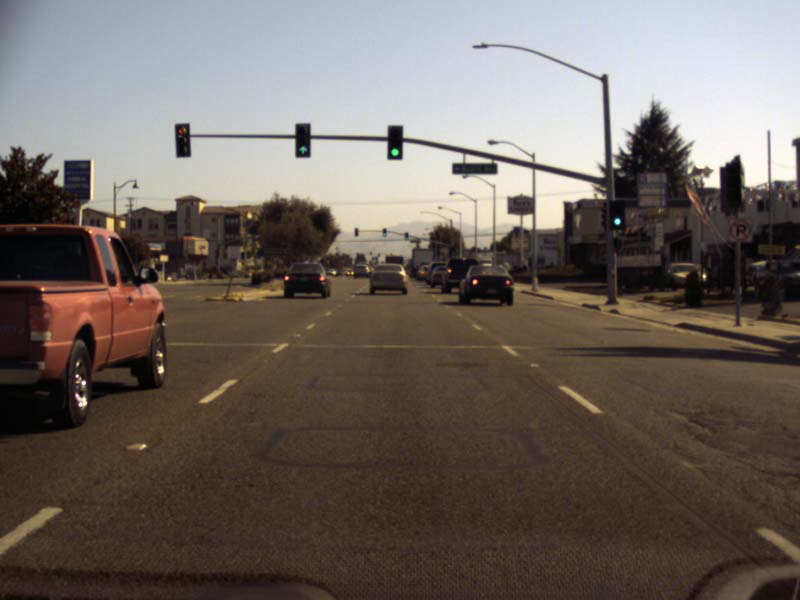Green: (388, 126, 401, 158), (297, 124, 309, 155), (610, 202, 624, 228), (382, 228, 385, 235)
Red: (175, 123, 189, 156)
